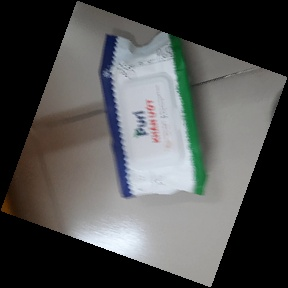Puri Trang: (97, 30, 213, 200)
